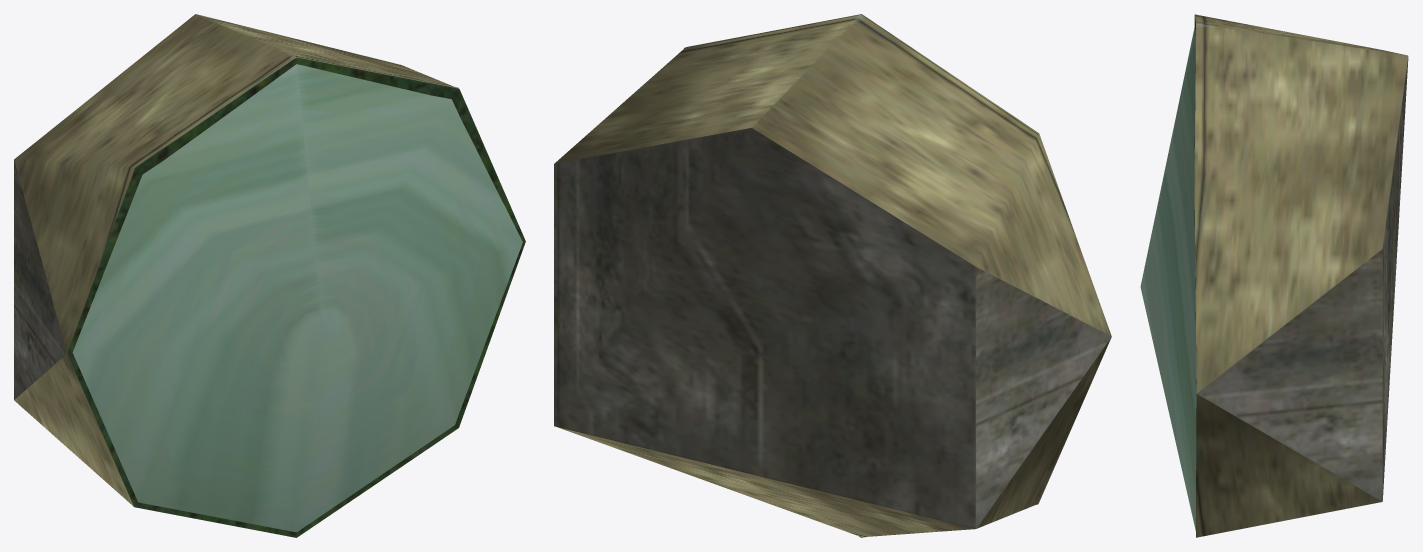
The model's file is ins_all_flora_farm_disk_s01_u0_l2.fbx.
3 views of the same model, side by side, from view 1: azimuth 30°, elevation 25°; view 2: azimuth 150°, elevation 25°; view 3: azimuth 270°, elevation 25° (orthographic). The views are drawn at different scales.
Visible parts, largest first — view 1: mesh_node; view 2: mesh_node; view 3: mesh_node.
Part boxes in pixels (left/top/right/bottom): mesh_node: left=14, top=14, right=525, bottom=537; mesh_node: left=554, top=14, right=1111, bottom=537; mesh_node: left=1140, top=14, right=1408, bottom=537.
Size of the model in its own units: 5.2 by 5.2 by 2.5.
